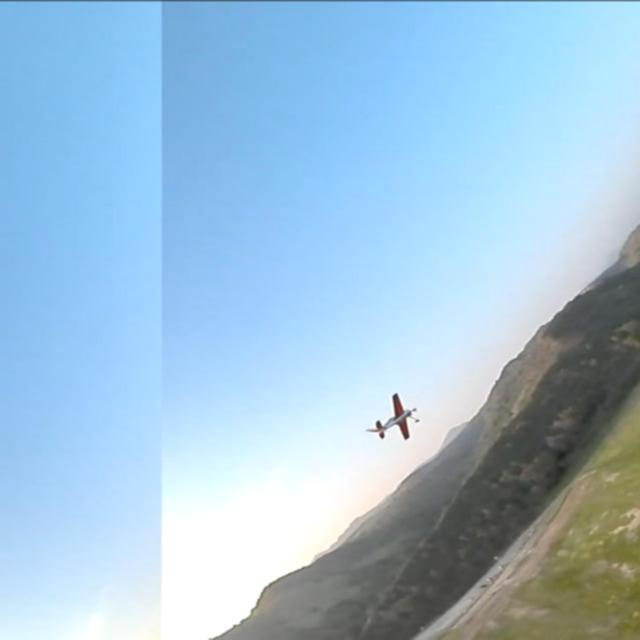plane: (364, 390, 421, 439)
